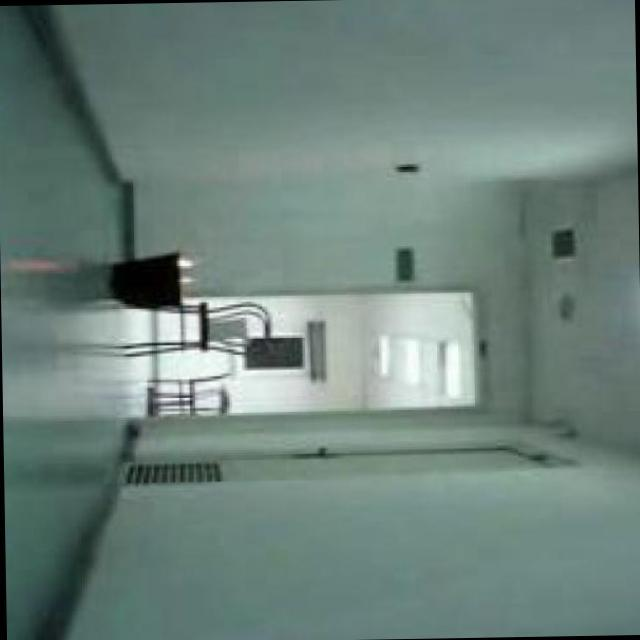Fire: (179, 253, 199, 285)
